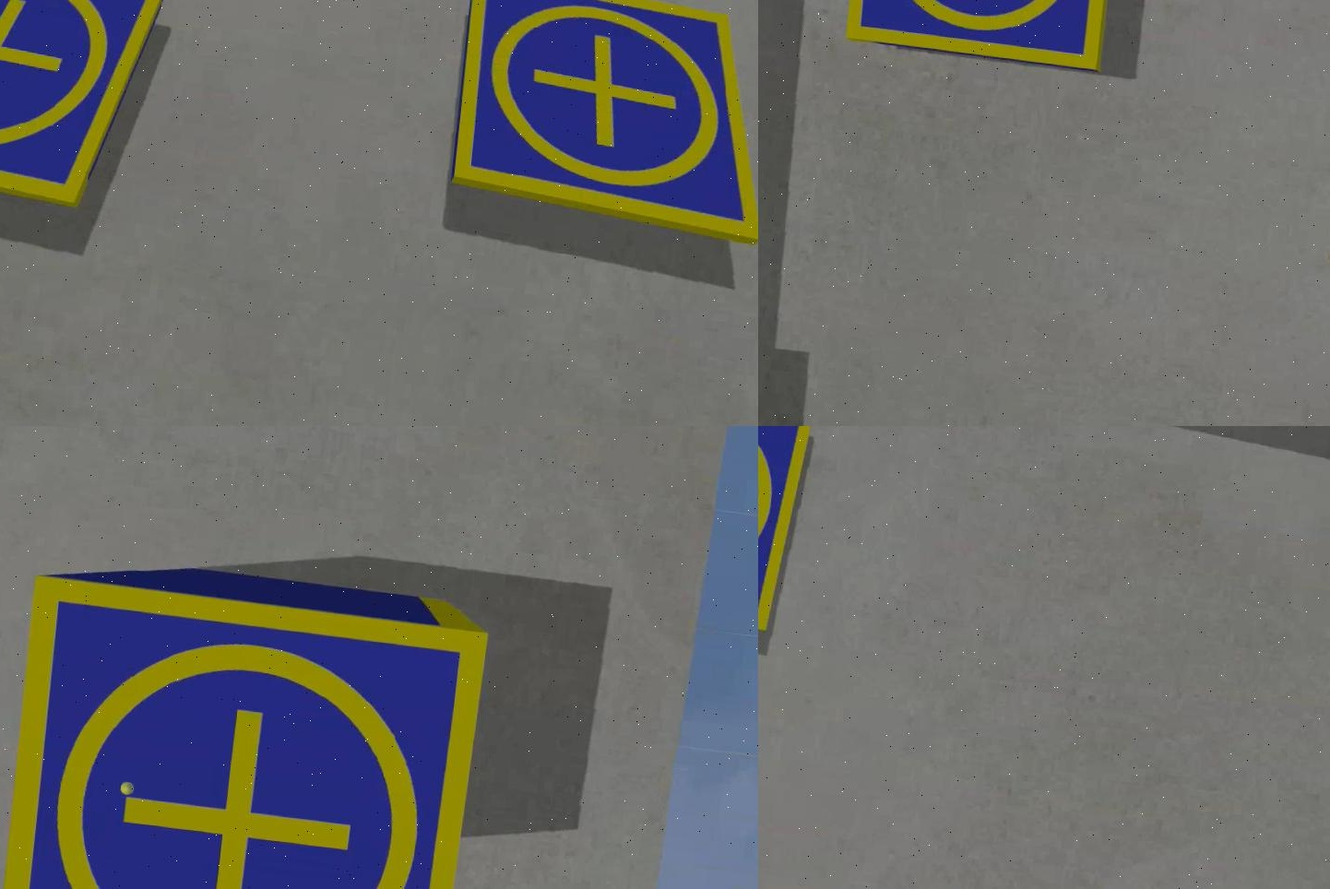small_base: (0, 572, 491, 889), (440, 1, 756, 243), (0, 1, 171, 213), (844, 1, 1117, 73)
